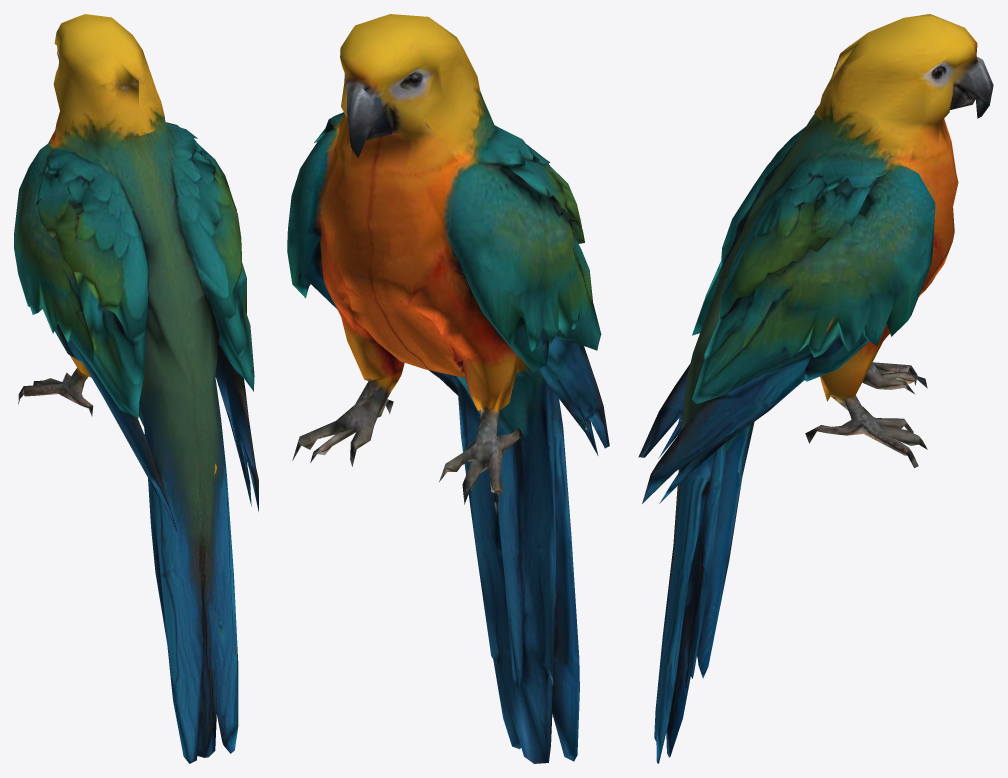
The model's file is parrot-perch.glb.
3 renders of one model, left to right at view 1: azimuth 30°, elevation 25°; view 2: azimuth 150°, elevation 25°; view 3: azimuth 270°, elevation 25°, orthographic. The views are drawn at different scales.
Visible parts, largest first — view 1: tripo_node_32a42333-384f-4c2f-bc23-429e9ae4e336; view 2: tripo_node_32a42333-384f-4c2f-bc23-429e9ae4e336; view 3: tripo_node_32a42333-384f-4c2f-bc23-429e9ae4e336.
Part boxes in pixels (x1=…): tripo_node_32a42333-384f-4c2f-bc23-429e9ae4e336: x1=14, y1=14, x2=258, y2=763; tripo_node_32a42333-384f-4c2f-bc23-429e9ae4e336: x1=287, y1=14, x2=609, y2=763; tripo_node_32a42333-384f-4c2f-bc23-429e9ae4e336: x1=638, y1=14, x2=993, y2=763.
Size of the model in its own units: 0.3021 by 0.9987 by 0.4365.
Materials: 1 (1 with a texture image).
